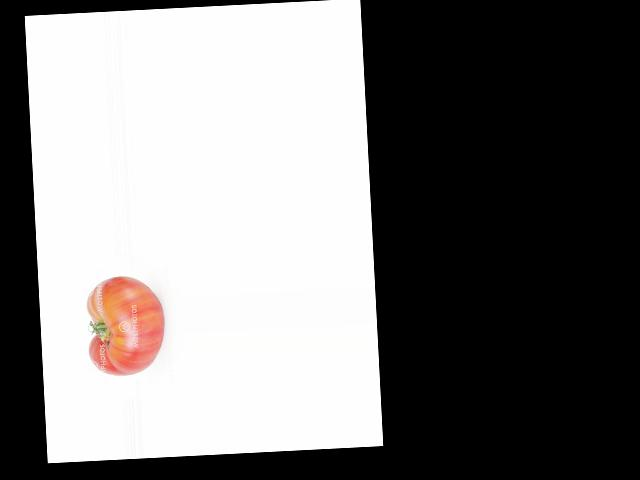tomato: (85, 273, 166, 376)
